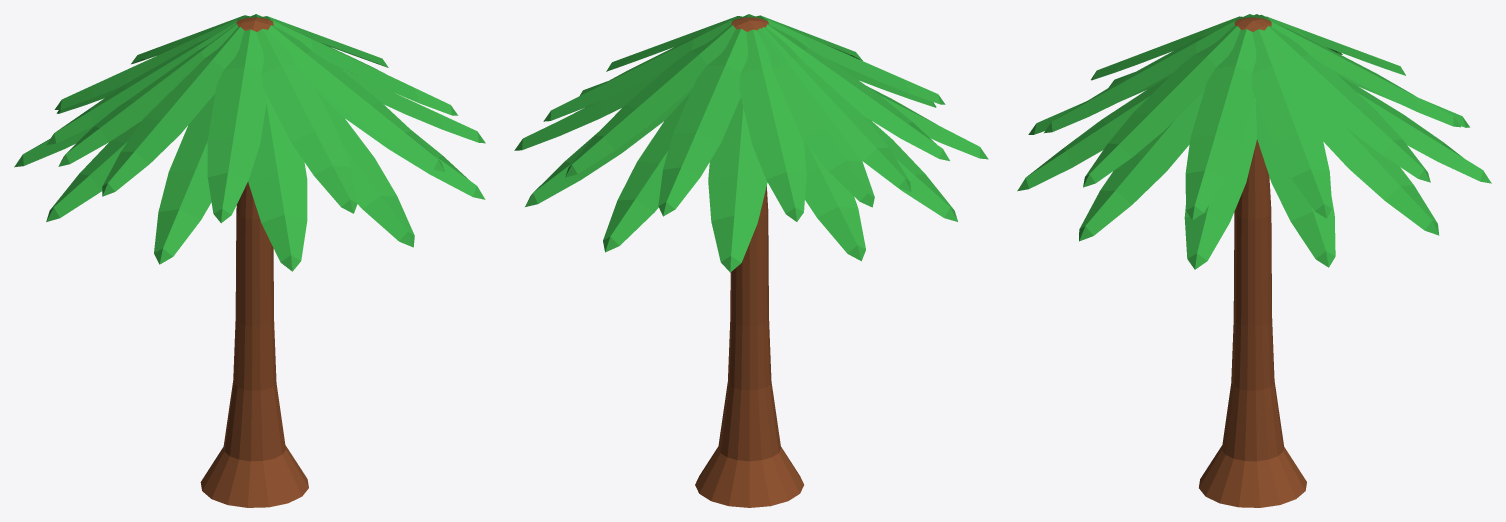
File: palmera.fbx
The picture shows the model from 3 angles, left to right: view 1: azimuth 30°, elevation 25°; view 2: azimuth 150°, elevation 25°; view 3: azimuth 270°, elevation 25°; orthographic projection.
Parts seen in each view (by area): view 1: Circle; view 2: Circle; view 3: Circle.
Part boxes in pixels (left/top/right/bottom): Circle: left=14, top=14, right=485, bottom=507; Circle: left=514, top=14, right=988, bottom=507; Circle: left=1017, top=14, right=1491, bottom=507.
Size of the model in its own units: 7.96 by 8.6 by 7.97.
